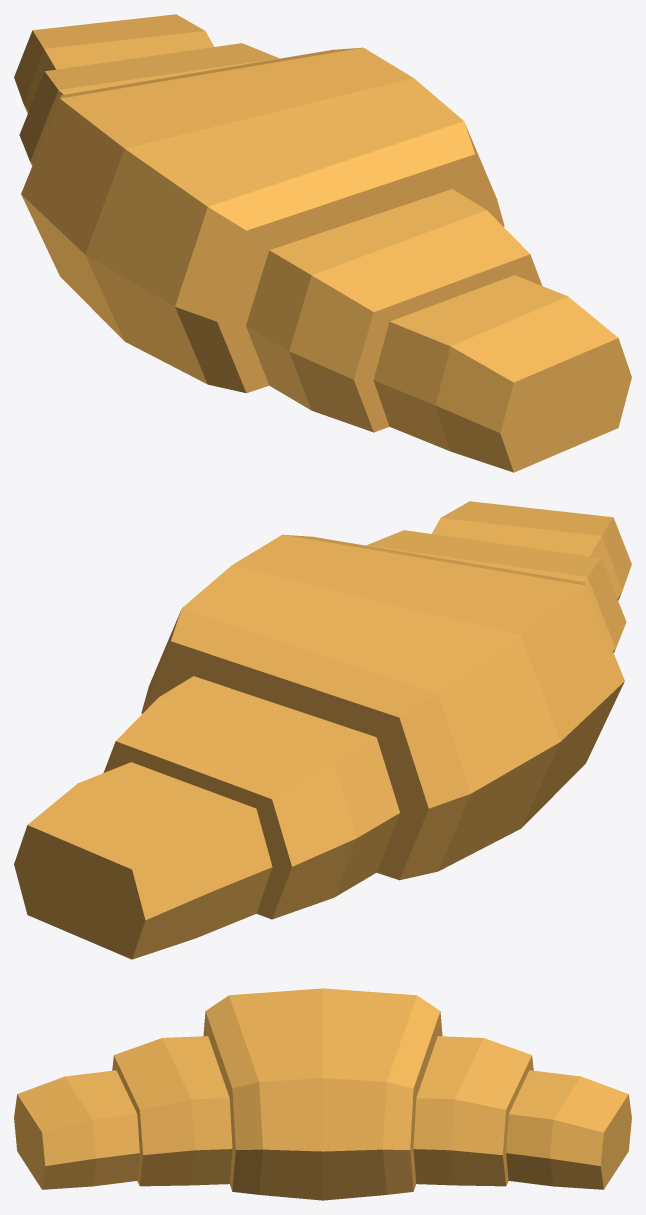
File: croissant.fbx
The picture shows the model from 3 angles, top to bottom: view 1: azimuth 30°, elevation 25°; view 2: azimuth 150°, elevation 25°; view 3: azimuth 270°, elevation 25°; orthographic projection. The views are drawn at different scales.
Visible parts, largest first — view 1: Cube; view 2: Cube; view 3: Cube.
Part boxes in pixels (<box>): Cube: <box>14,14,631,472</box>; Cube: <box>14,501,631,959</box>; Cube: <box>14,988,631,1200</box>.
Size of the model in its own units: 25.49 by 12.77 by 58.35.
